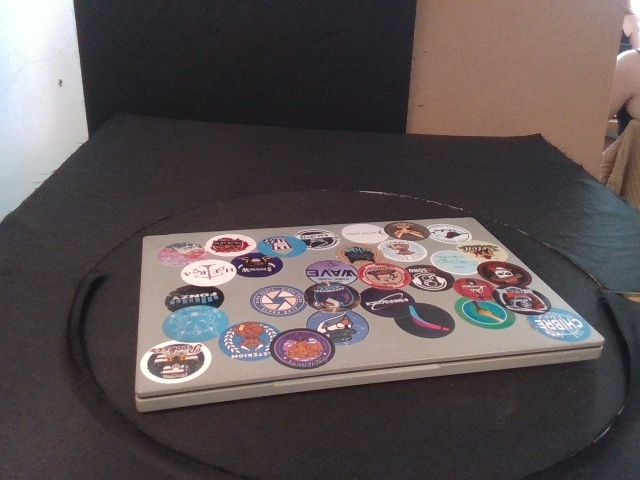laptop: (132, 215, 606, 411)
